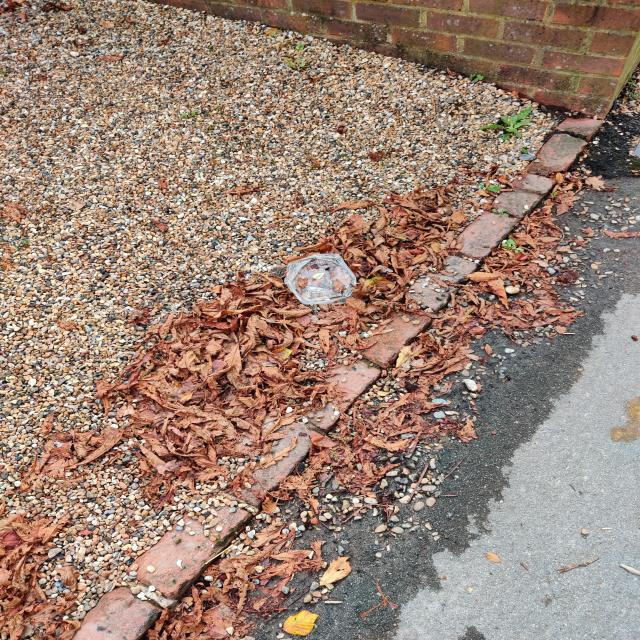litter: (288, 248, 362, 306)
